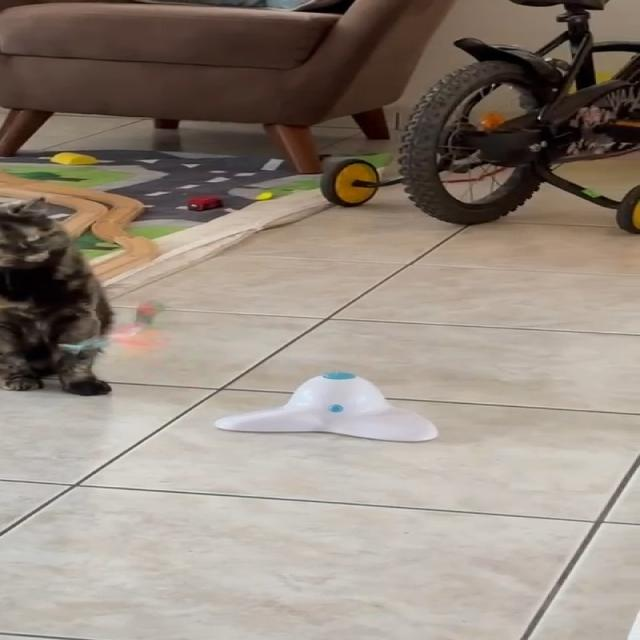authorized: (0, 196, 115, 396)
